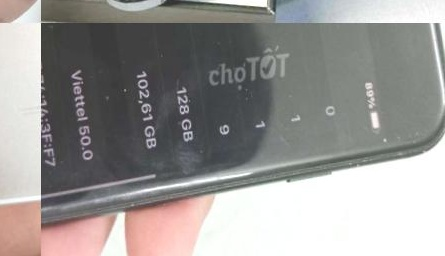scratch: (41, 172, 261, 221), (376, 125, 438, 153)
